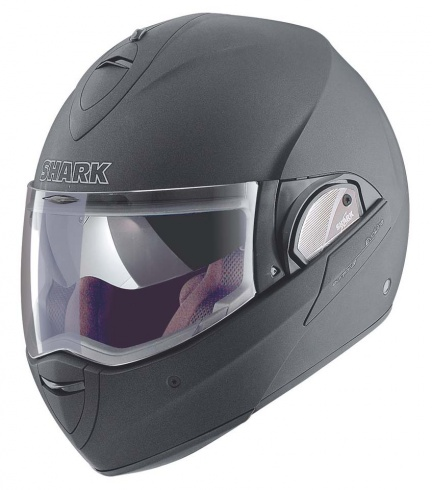helmet: (29, 18, 409, 433)
